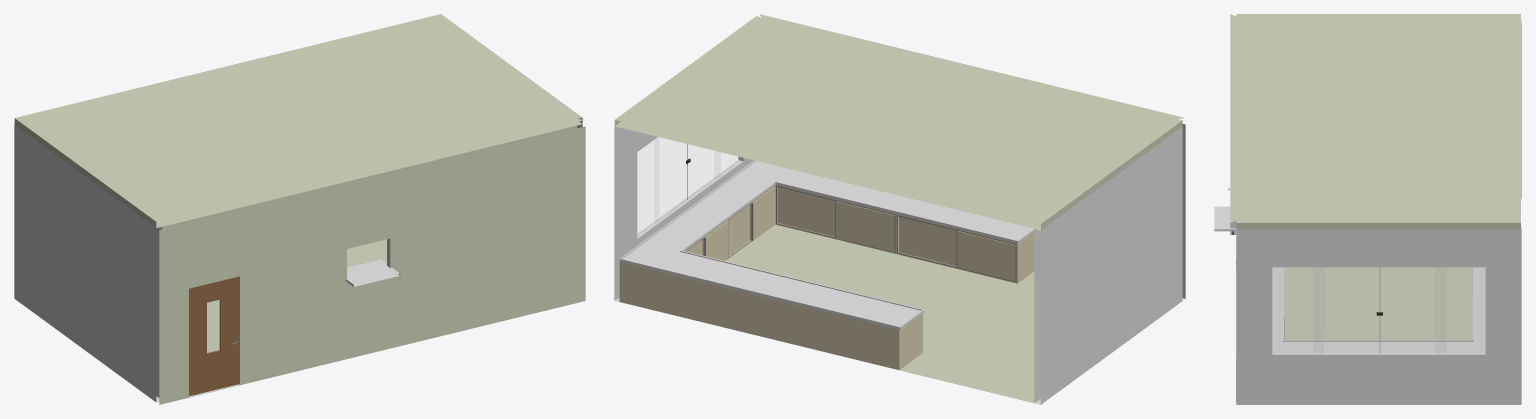
Rendered from Salinha.fbx.
3 renders of one model, left to right at view 1: azimuth 30°, elevation 25°; view 2: azimuth 150°, elevation 25°; view 3: azimuth 270°, elevation 25°, orthographic.
Parts seen in each view (by area): view 1: Paredes.001, Cube.018, Cube.014; view 2: Paredes.001, Cube.021, Cube.020, Janela1.002, Cube.017; view 3: Paredes.001, Janela1.002, Cube.020, Cube.014.
Boxes of the visible parts, bbox=[...] form: Paredes.001: bbox=[14, 14, 585, 404]; Cube.018: bbox=[189, 276, 239, 396]; Cube.014: bbox=[346, 259, 400, 286]; Paredes.001: bbox=[614, 14, 1185, 404]; Cube.021: bbox=[619, 185, 1034, 369]; Cube.020: bbox=[619, 160, 1034, 330]; Janela1.002: bbox=[638, 137, 739, 234]; Cube.017: bbox=[778, 301, 899, 369]; Paredes.001: bbox=[1230, 14, 1521, 404]; Janela1.002: bbox=[1273, 267, 1484, 352]; Cube.020: bbox=[1236, 231, 1485, 361]; Cube.014: bbox=[1214, 206, 1236, 231].
Size of the model in its own units: 6826 by 2768 by 4242.
